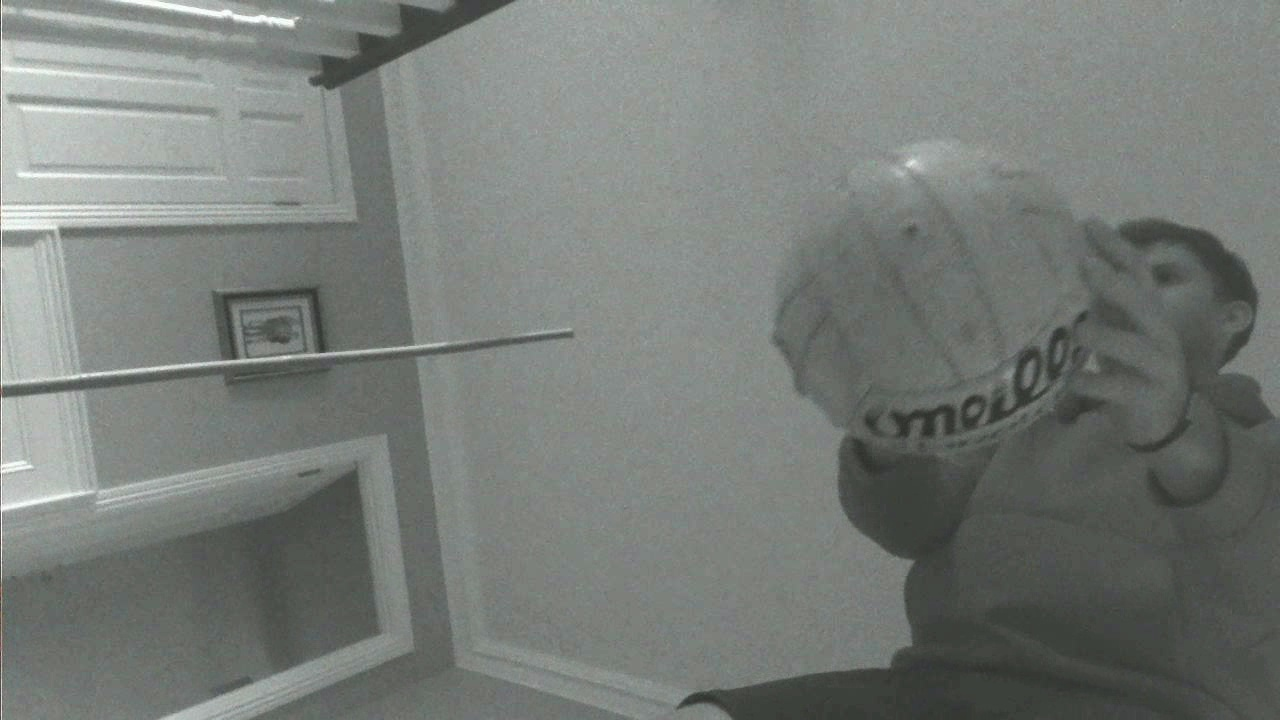Football-Spotter: (774, 142, 1088, 454)
